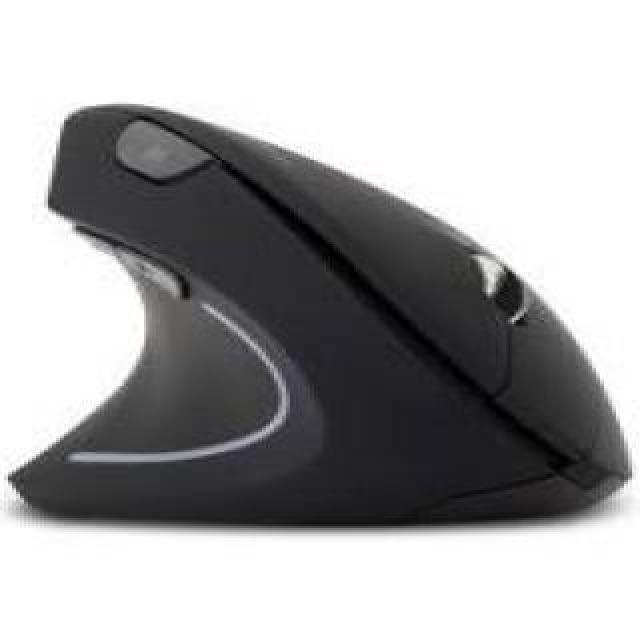mouse: (27, 57, 610, 593)
